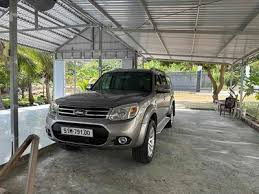Bien-so: (62, 127, 93, 136)
